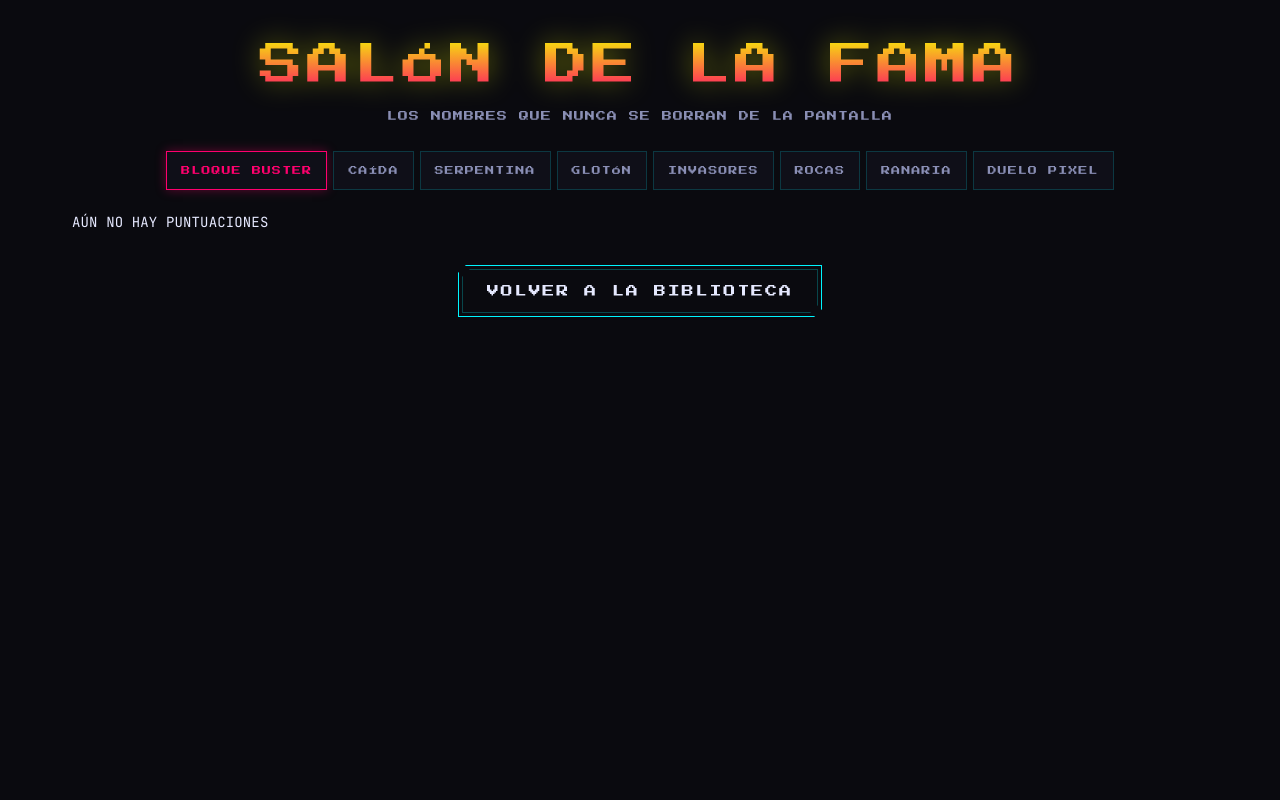
LeaderboardScreen › shows gold and silver but no bronze slot with two rows
Click the button "ROCAS". click: (820, 170)
box: [780,150,860,190]
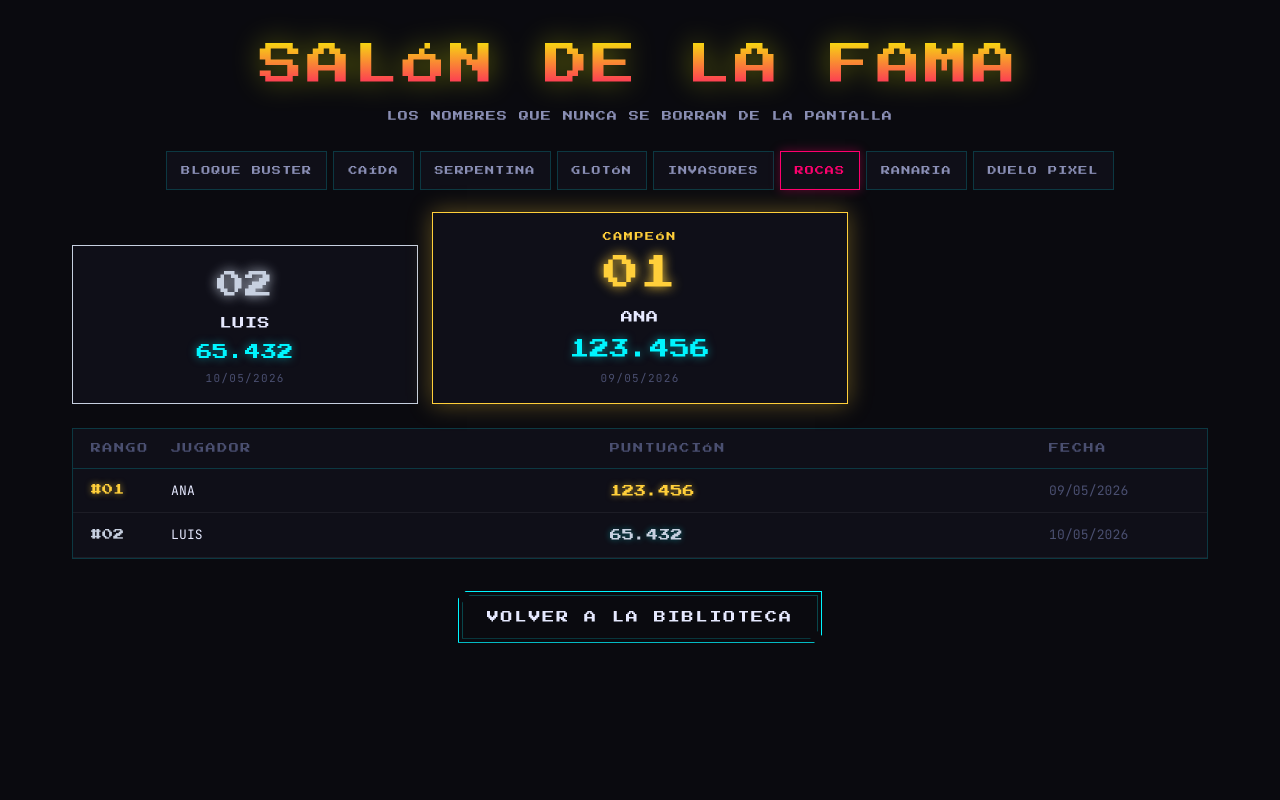
Check: the text "ANA" below "CAMPEÓN" is shown, box [621,311,659,323]
Check: the text "LUIS" below "CAMPEÓN" is shown, box [220,317,271,329]
